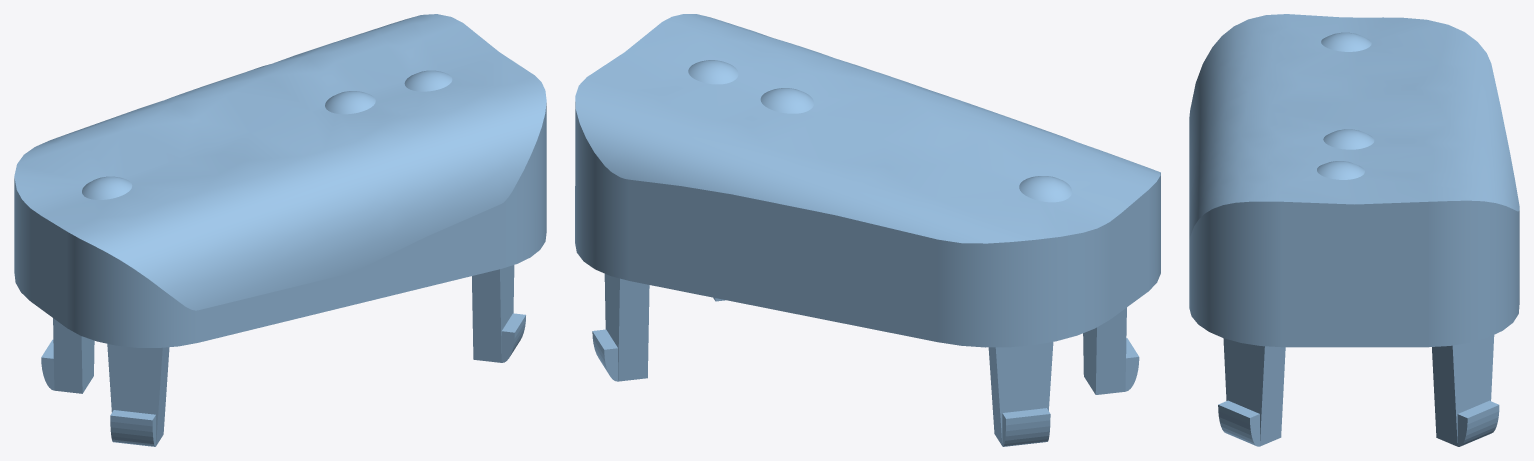
The picture shows the model from 3 angles, left to right: view 1: azimuth 30°, elevation 25°; view 2: azimuth 150°, elevation 25°; view 3: azimuth 270°, elevation 25°; orthographic projection. The views are drawn at different scales.
Parts seen in each view (by area): view 1: =>[0:1:1:2], =>[0:1:1:3], =>[0:1:1:4], =>[0:1:1:5]; view 2: =>[0:1:1:2], =>[0:1:1:5], =>[0:1:1:3]; view 3: =>[0:1:1:2], =>[0:1:1:4].
Part boxes in pixels (x1,y1,x2,y2): =>[0:1:1:2]: (14, 14, 546, 347); =>[0:1:1:3]: (107, 344, 169, 446); =>[0:1:1:4]: (472, 265, 525, 362); =>[0:1:1:5]: (41, 318, 94, 393); =>[0:1:1:2]: (575, 14, 1160, 381); =>[0:1:1:5]: (988, 342, 1053, 446); =>[0:1:1:3]: (1083, 307, 1139, 394); =>[0:1:1:2]: (1189, 14, 1519, 446); =>[0:1:1:4]: (1218, 338, 1285, 446).
Bounding box in the file's own units: 38.92 × 20.3 × 23.28.
